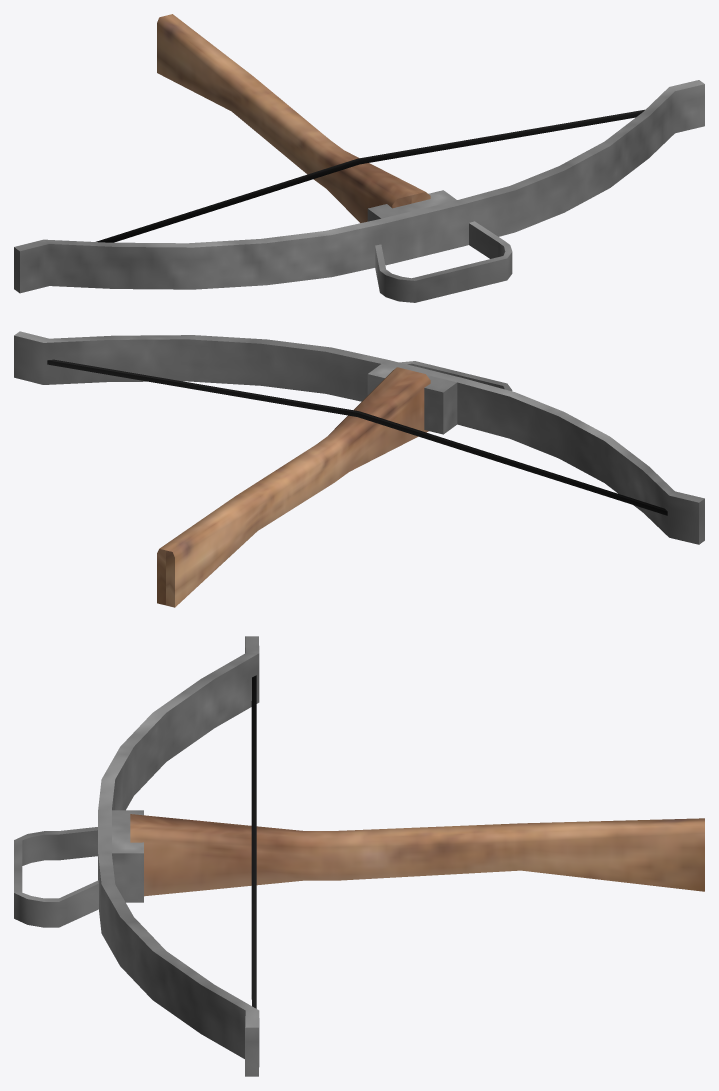
Rendered from HCCrossbowEmpty.fbx.
3 renders of one model, top to bottom at view 1: azimuth 30°, elevation 25°; view 2: azimuth 150°, elevation 25°; view 3: azimuth 270°, elevation 25°, orthographic. The views are drawn at different scales.
Visible parts, largest first — view 1: Crossbow_empty; view 2: Crossbow_empty; view 3: Crossbow_empty.
Boxes of the visible parts, x1,y1,x2,y2 form: Crossbow_empty: [14, 14, 704, 302]; Crossbow_empty: [14, 331, 704, 607]; Crossbow_empty: [14, 636, 704, 1076].
Size of the model in its own units: 0.5361 by 0.4001 by 0.0448.
